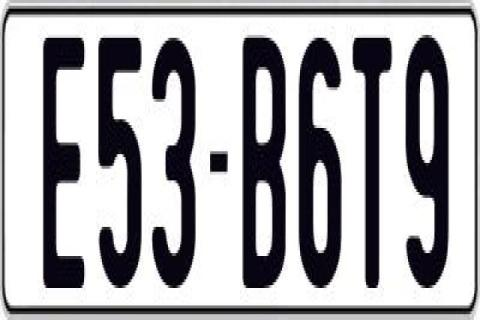0: (404, 29, 454, 294), (296, 35, 344, 303), (96, 32, 146, 285), (152, 38, 198, 300)
B: (239, 29, 285, 282)
E: (43, 35, 86, 299)
T: (350, 38, 391, 297)
